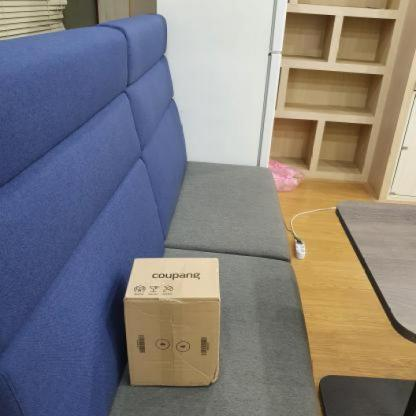box: (119, 245, 240, 394)
